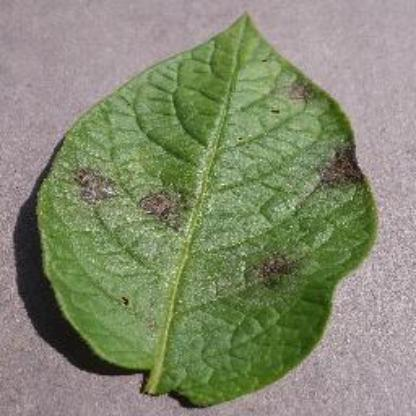Late-Blight: (30, 13, 380, 407)
